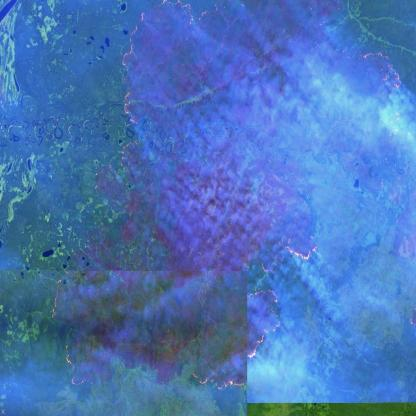fire: (188, 229, 318, 391), (117, 0, 222, 170), (358, 49, 416, 156), (48, 263, 89, 392)
